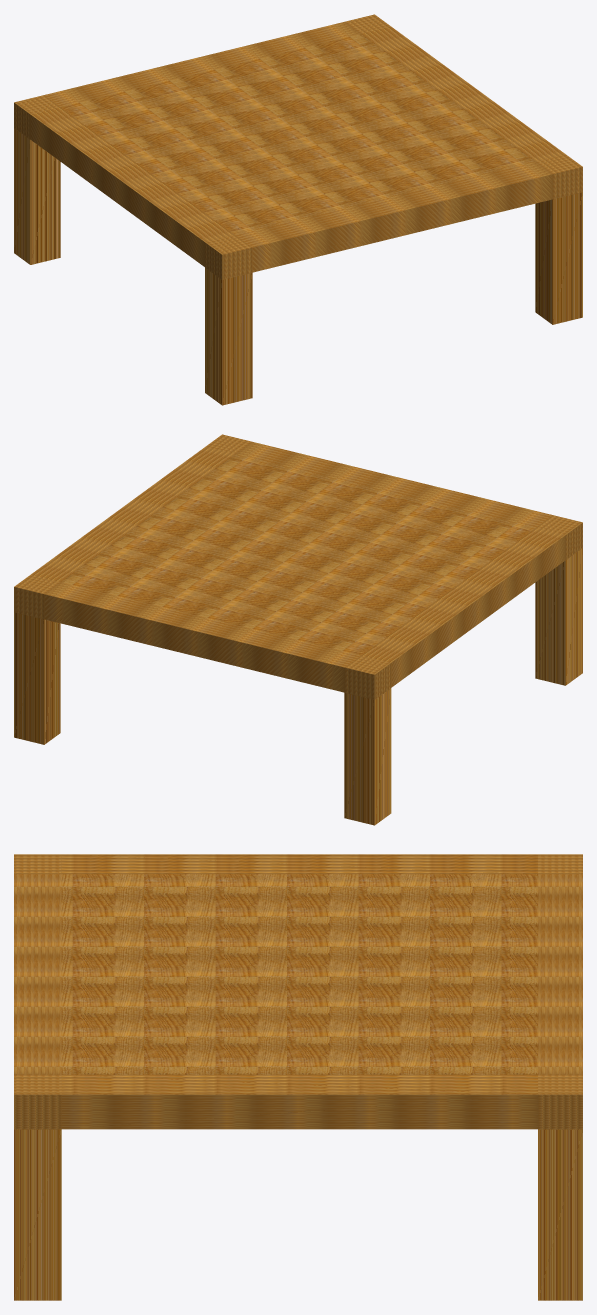
The model's file is coffee_table.FBX.
3 renders of one model, top to bottom at view 1: azimuth 30°, elevation 25°; view 2: azimuth 150°, elevation 25°; view 3: azimuth 270°, elevation 25°, orthographic. The views are drawn at different scales.
Parts seen in each view (by area): view 1: Box001; view 2: Box001; view 3: Box001.
Boxes of the visible parts, x1,y1,x2,y2 form: Box001: (14,14,582,405); Box001: (14,434,582,825); Box001: (14,854,582,1300).
Size of the model in its own units: 59.06 by 23.58 by 59.06.
Materials: 1 (1 with a texture image).
